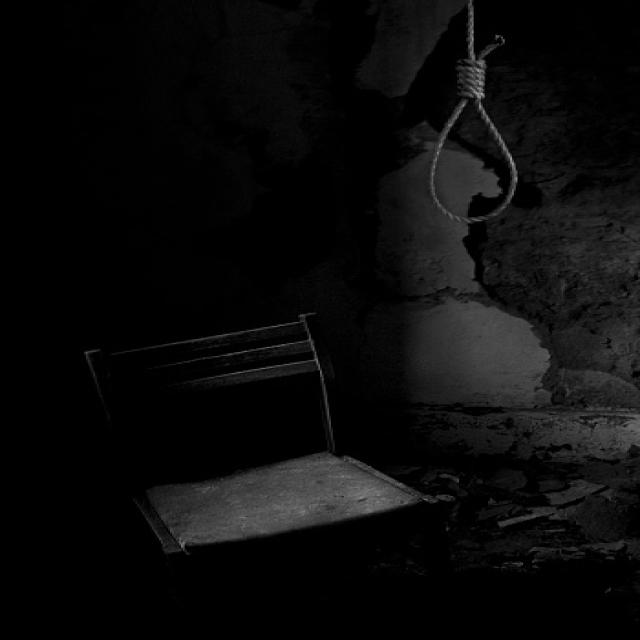chair: (83, 304, 454, 635)
